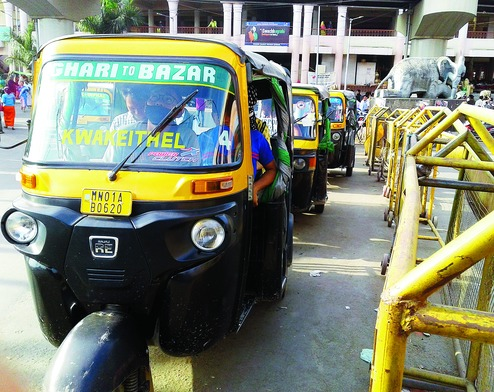doublelinenumberplate: (79, 188, 133, 217)
